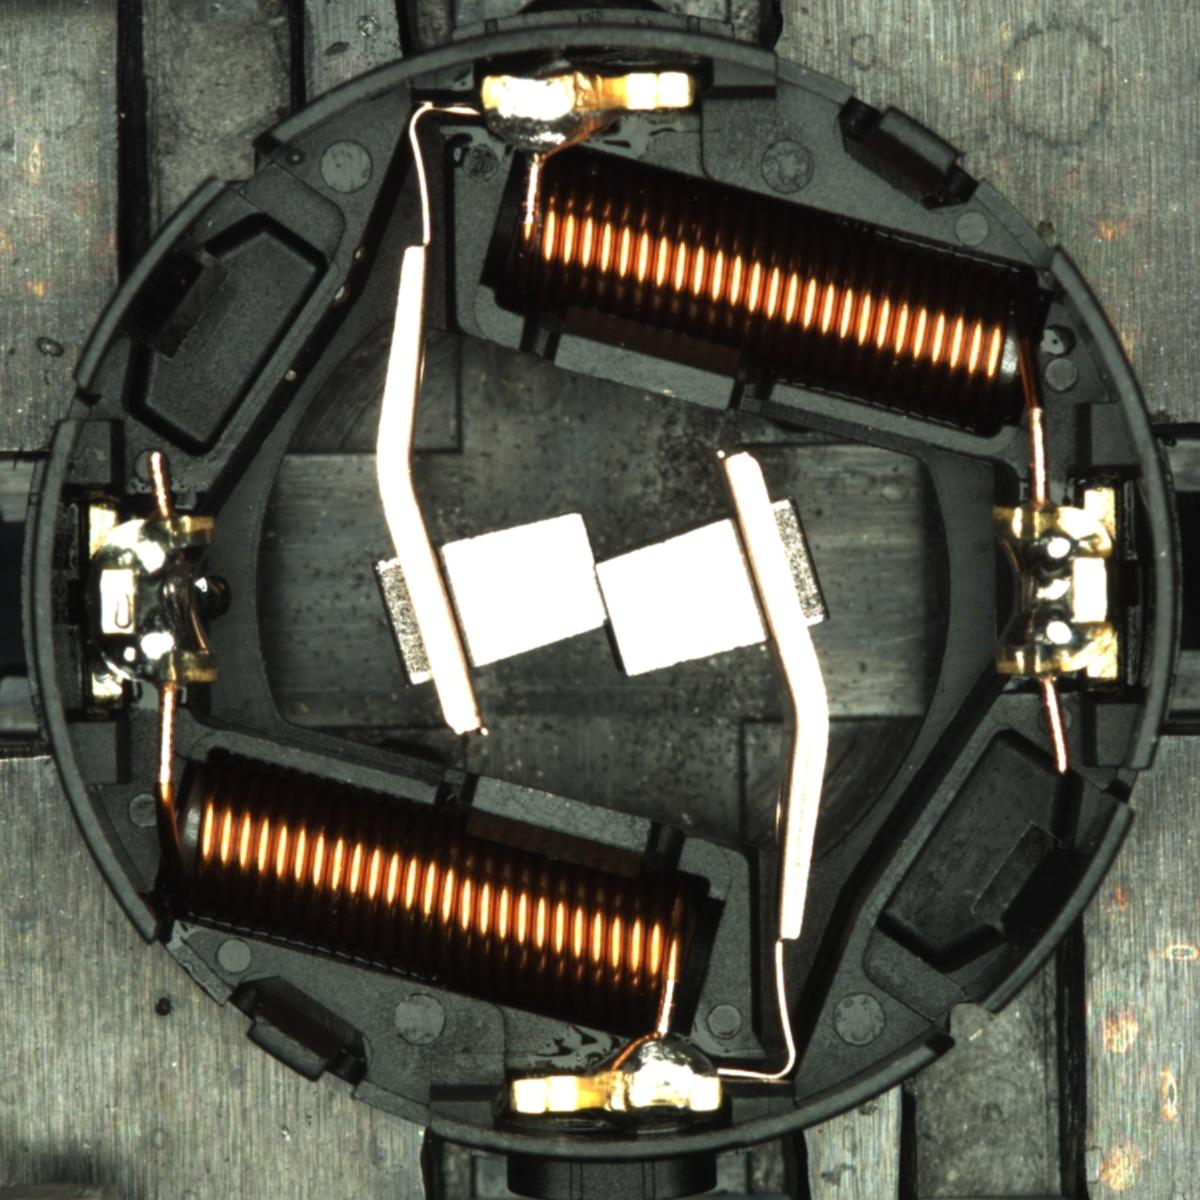1: (256, 32, 485, 256), (714, 930, 943, 1154)
2: (714, 32, 943, 256), (256, 930, 485, 1154)
3: (26, 256, 256, 481), (943, 705, 1173, 930)
4: (256, 256, 485, 481), (714, 705, 943, 930)
5: (485, 144, 714, 369), (485, 817, 714, 1042)
6: (714, 256, 943, 481), (256, 705, 485, 930)
7: (943, 256, 1173, 481), (26, 705, 256, 930)
cacbon: (402, 499, 797, 687)
chau_dien: (81, 499, 222, 702), (985, 487, 1124, 686)
hat_chi: (189, 574, 233, 621)
tay_choi: (480, 67, 698, 164), (511, 1024, 723, 1118)
thanh_de: (956, 787, 1142, 1031), (60, 163, 245, 405)
